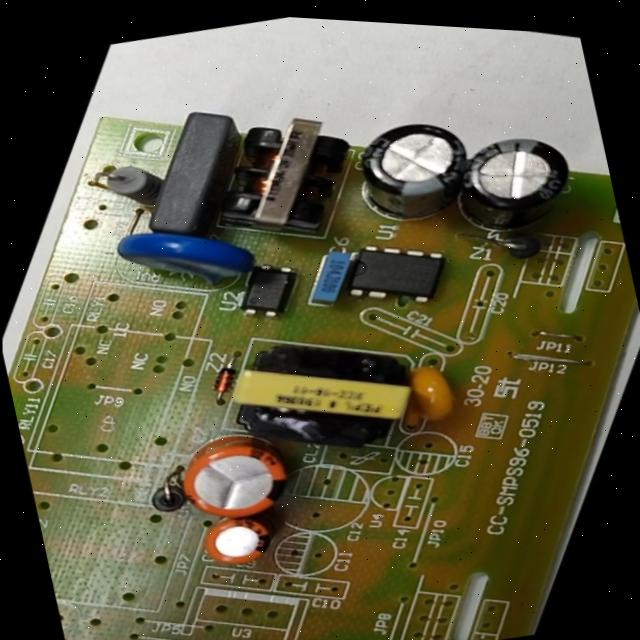Cap1: (147, 402, 328, 551)
Cap2: (162, 485, 305, 597)
Cap3: (315, 88, 506, 256)
Cap4: (411, 97, 613, 274)
MOSFET: (314, 214, 466, 333)
Mov: (80, 187, 280, 328)
Resistor: (79, 139, 188, 226)
Transformer: (188, 290, 449, 498), (182, 79, 391, 266)
